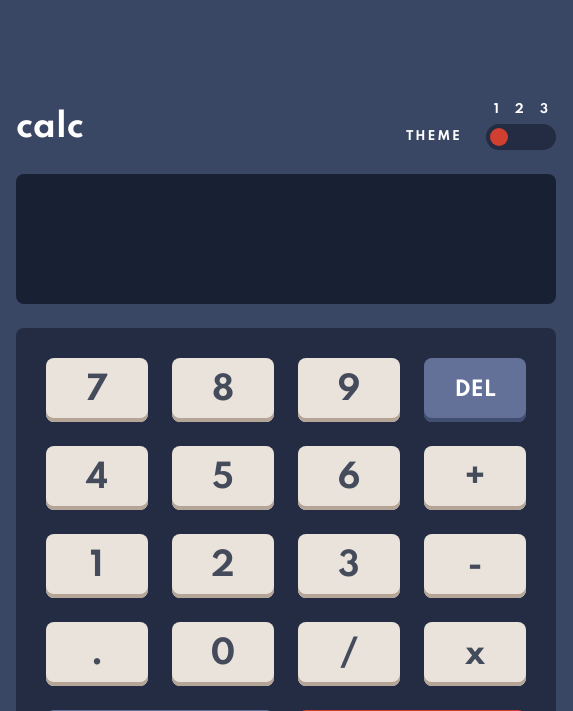
App › appends to the equation after entering a number again
The width and height of the screenshot is (573, 711).
Click the button "2" at (223, 566), box [172,534,274,598]
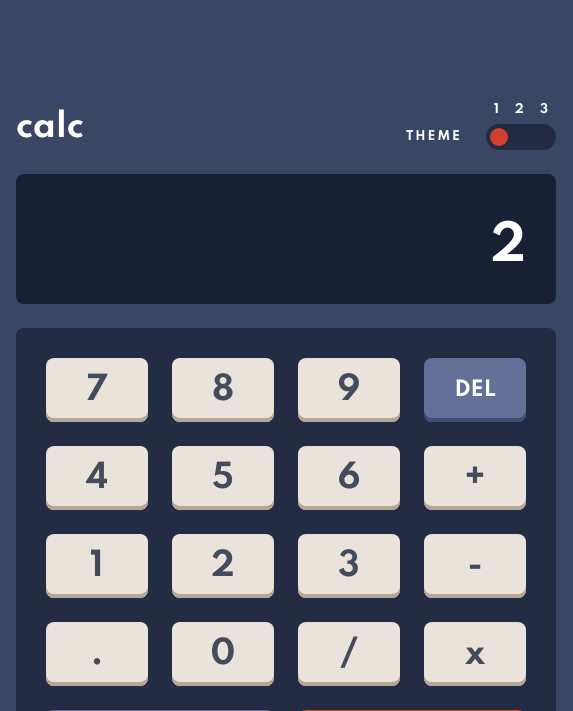
Click the button "2" at (223, 566), box [172,534,274,598]
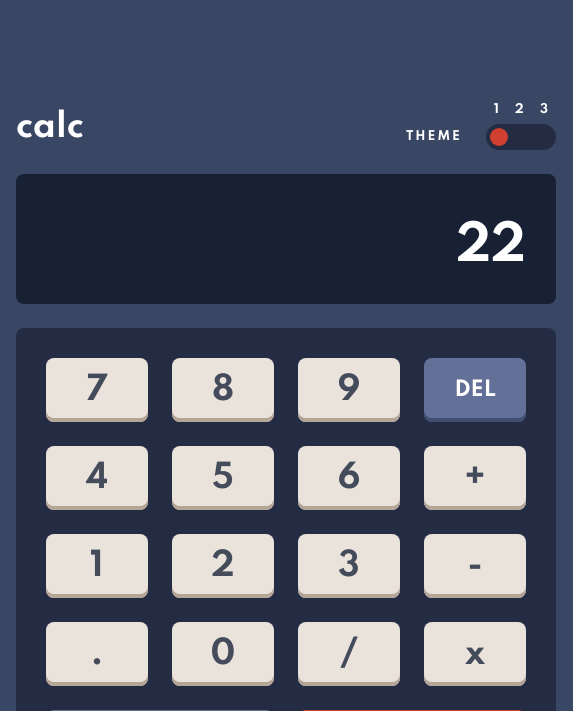
Click the button "+" at (475, 478), box [424,446,526,510]
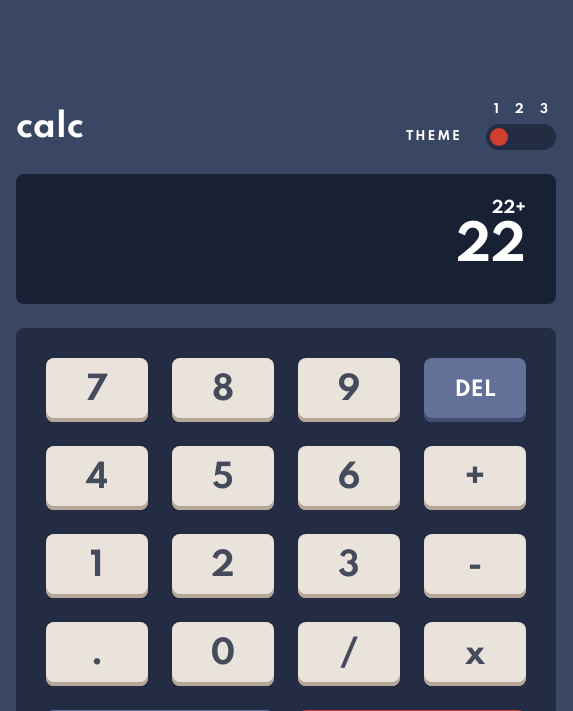
Expected: the text with test id "equation" reads "22+", [492,199,526,217]
Click the button "2" at (223, 566), box [172,534,274,598]
(page scrolled)
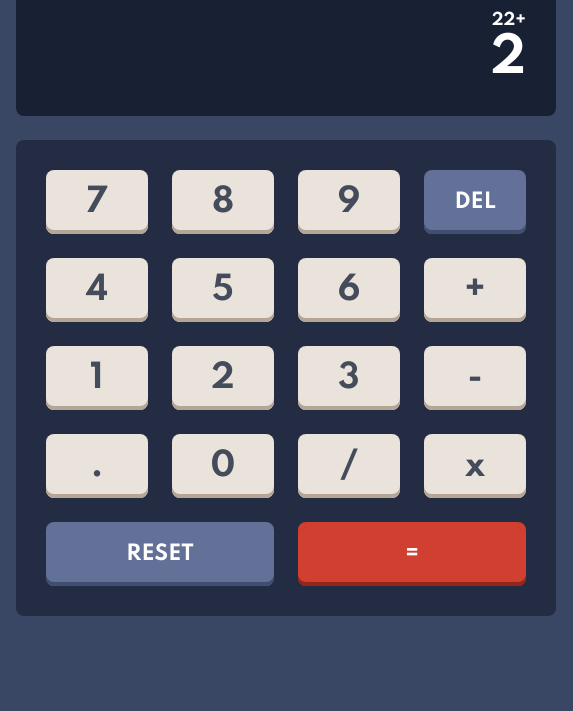
Click the button "=" at (412, 554), box [298,522,526,586]
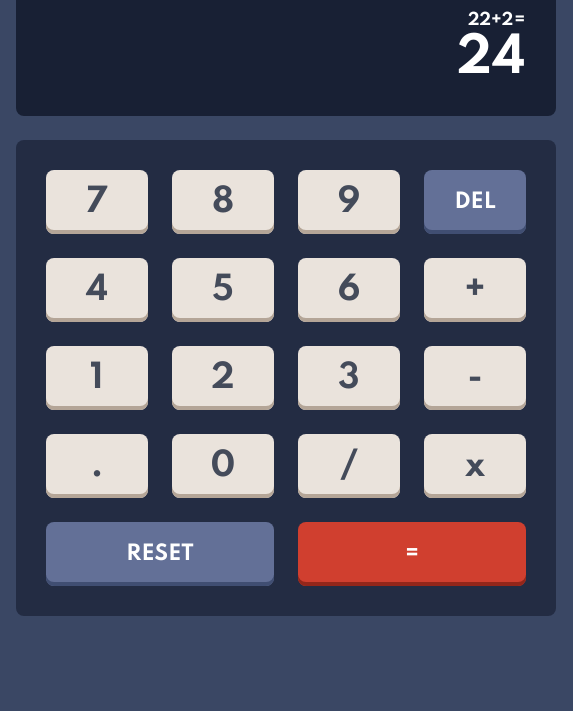
Expected: the message reads "24", [457,32,526,85]
